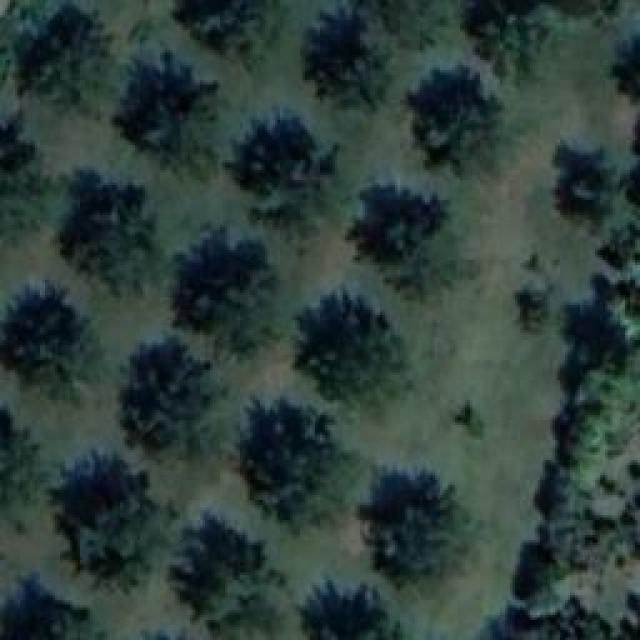Tree: (228, 395, 363, 543), (300, 0, 450, 115), (52, 455, 170, 593), (110, 53, 228, 186), (223, 115, 343, 245), (460, 0, 628, 90), (50, 170, 163, 303), (110, 335, 230, 458), (343, 185, 466, 303), (170, 517, 285, 640), (355, 468, 470, 588), (175, 235, 285, 353), (295, 288, 403, 408), (0, 282, 100, 410), (0, 2, 112, 115), (408, 62, 503, 180), (170, 0, 285, 70), (0, 575, 105, 640), (553, 145, 618, 238), (300, 582, 400, 640), (0, 115, 45, 243), (513, 285, 566, 345), (452, 397, 492, 440)
